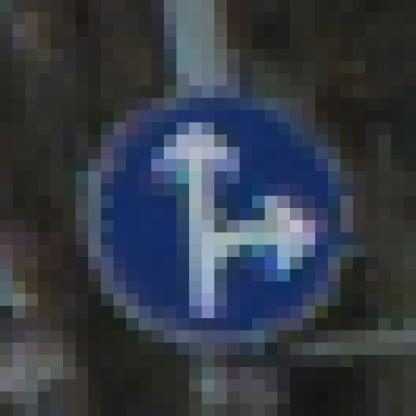Straight or Right: (77, 75, 341, 344)
